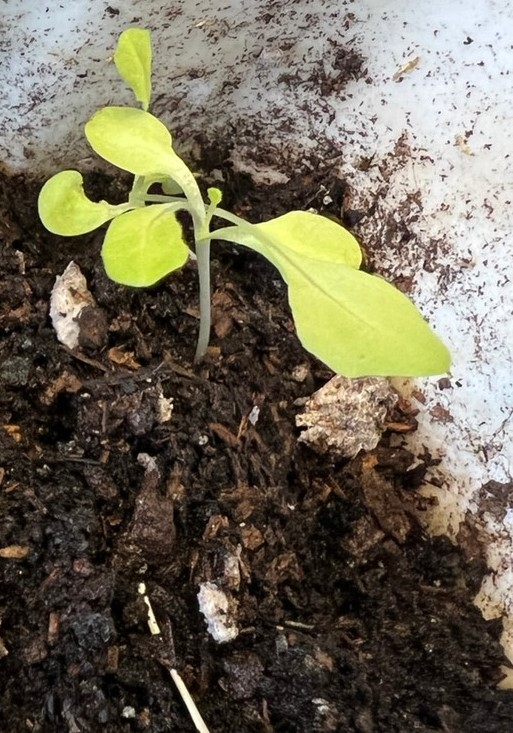week2: (215, 207, 476, 398), (71, 101, 217, 248), (17, 170, 202, 248), (101, 196, 215, 300)
